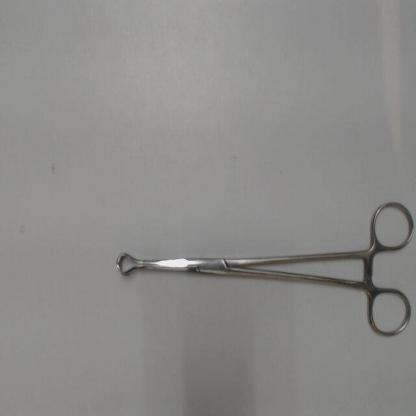8 Babcock Tissue Forceps: (110, 190, 415, 345)
